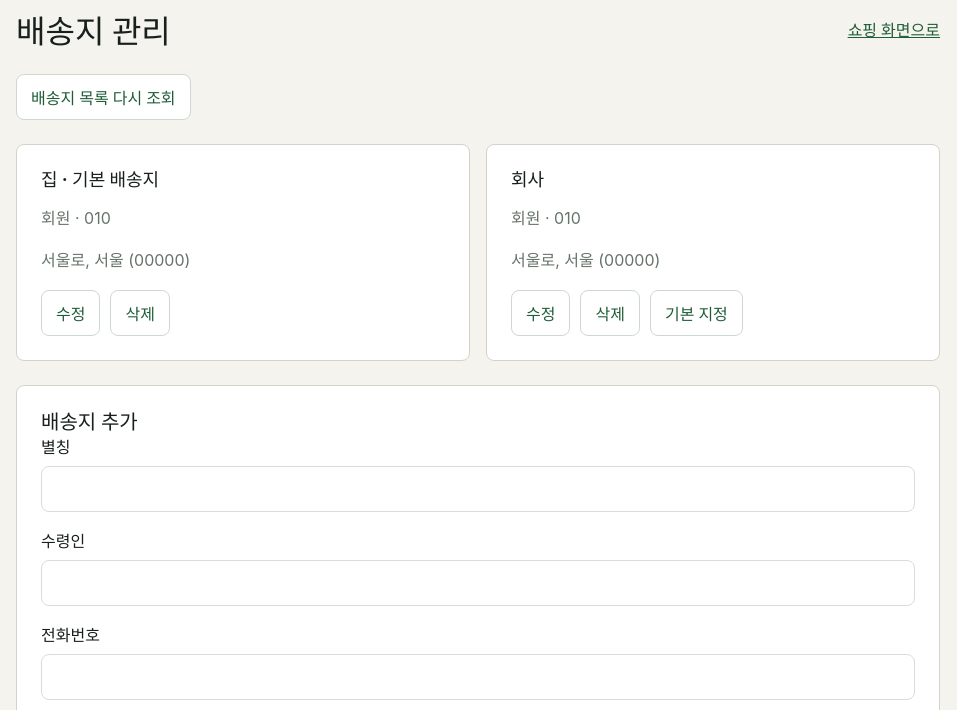
it: sets another address as default with the viewed version
Expected: the heading "집 · 기본 배송지" is shown, [41,169,159,190]
What coordinates should you click on to do the following:
click the button with aria-label "회사 기본 지정"
I would click on:
 (696, 313)
Its box is [650,290,743,336].
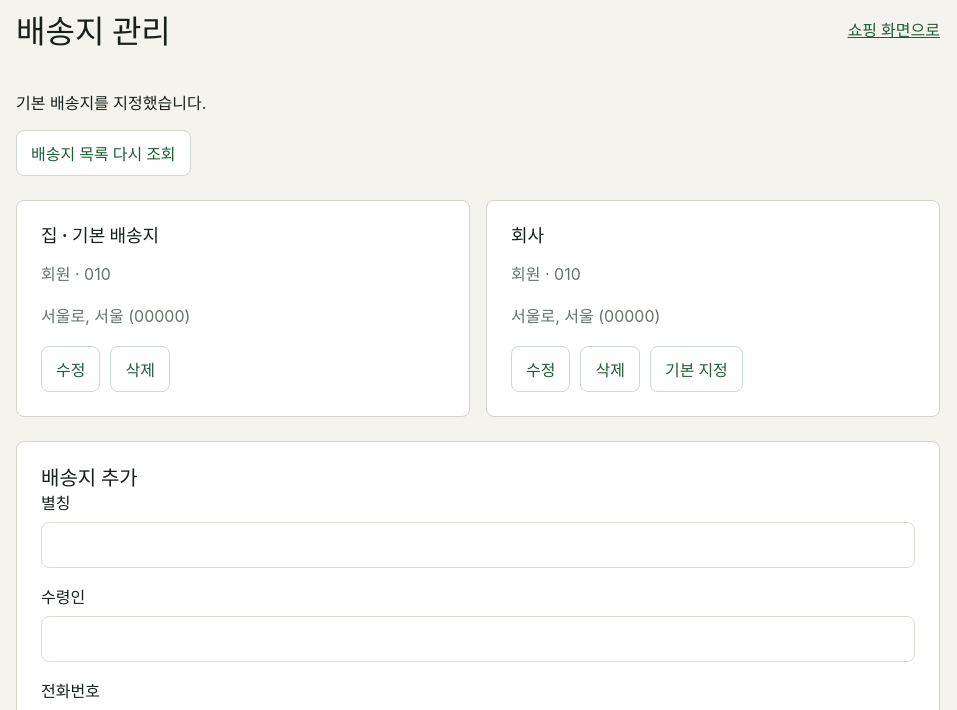
Result: the text "기본 배송지를 지정했습니다." is shown at [16,93,206,113]
